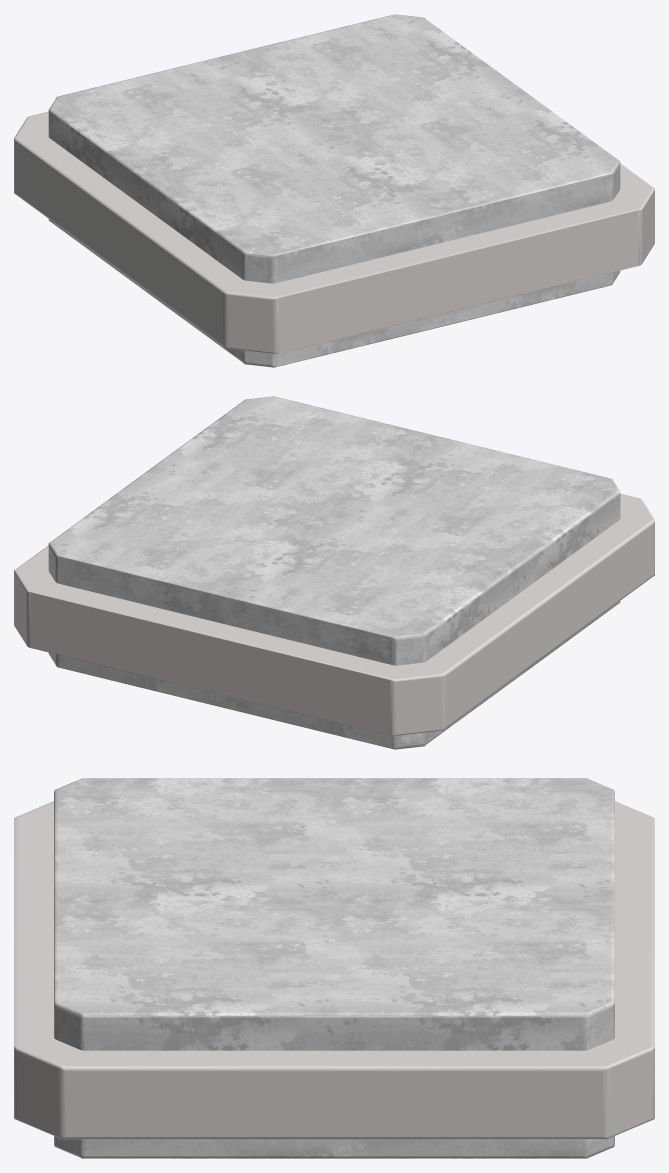
The picture shows the model from 3 angles, top to bottom: view 1: azimuth 30°, elevation 25°; view 2: azimuth 150°, elevation 25°; view 3: azimuth 270°, elevation 25°; orthographic projection. The views are drawn at different scales.
Parts seen in each view (by area): view 1: block_01_low_poly (×2); view 2: block_01_low_poly (×2); view 3: block_01_low_poly (×2).
Boxes of the visible parts, box(x1,y1,x2,y2) form: block_01_low_poly (×2): box(14, 14, 654, 367); block_01_low_poly (×2): box(14, 396, 654, 749); block_01_low_poly (×2): box(14, 778, 654, 1158).
Bounding box in the file's own units: 4 × 1 × 4.
2 materials, 2 textured.
